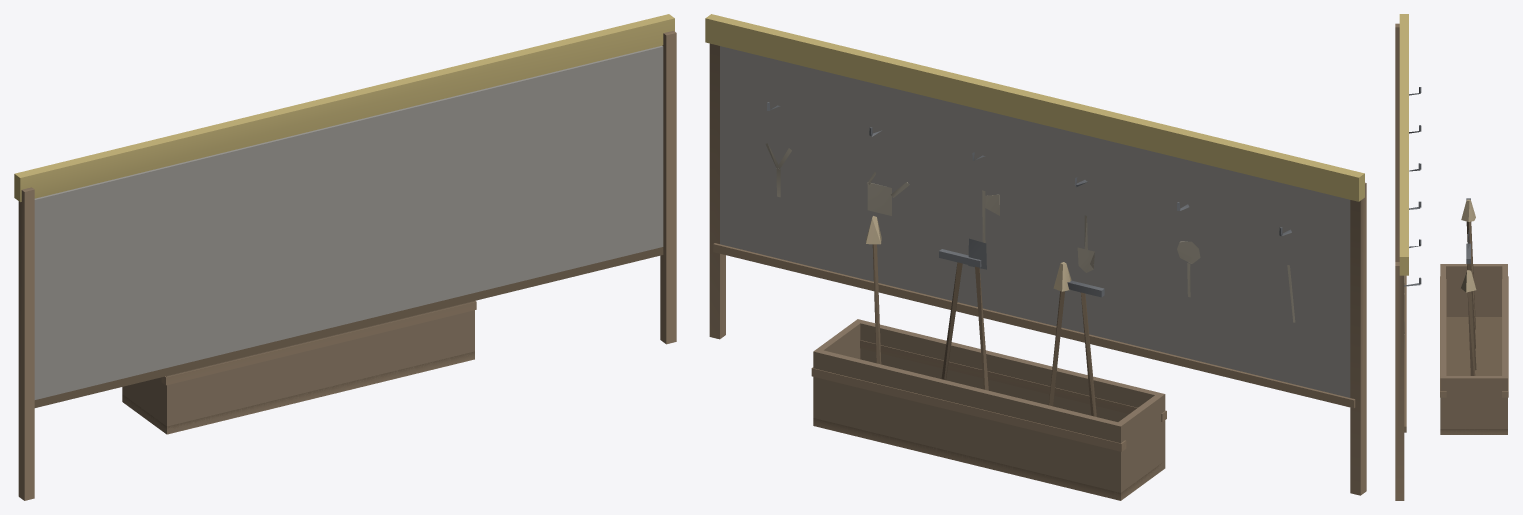
File: mall_tool_wall_low.glb
The picture shows the model from 3 angles, left to right: view 1: azimuth 30°, elevation 25°; view 2: azimuth 150°, elevation 25°; view 3: azimuth 270°, elevation 25°; orthographic projection. The views are drawn at different scales.
Parts seen in each view (by area): view 1: mall.tool_wall; view 2: mall.tool_wall; view 3: mall.tool_wall.
Part boxes in pixels (x1,y1,x2,y2): mall.tool_wall: [14, 14, 676, 500]; mall.tool_wall: [705, 14, 1366, 500]; mall.tool_wall: [1395, 14, 1508, 500].
Bounding box in the file's own units: 5.1 × 2.39 × 1.
